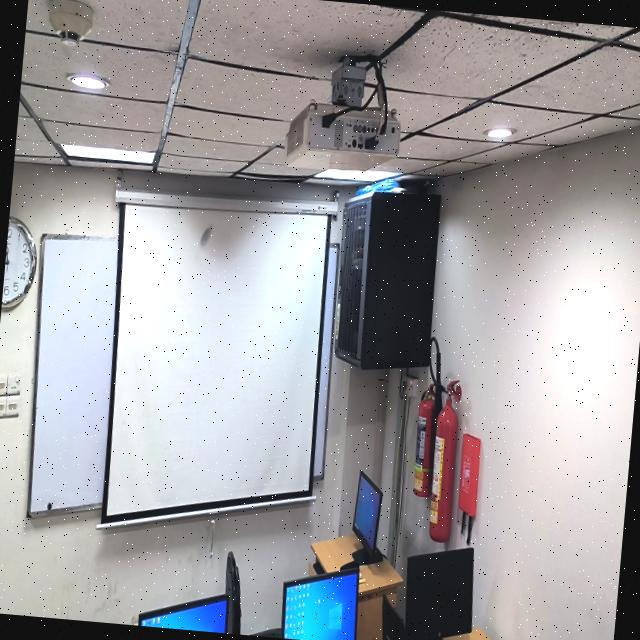Chair: (224, 550, 240, 634)
Fire Extinguisher: (428, 395, 456, 540), (412, 380, 435, 496)
Light: (60, 142, 153, 163), (313, 168, 399, 181), (66, 71, 107, 90), (484, 125, 511, 140)
Monitor: (403, 546, 472, 640), (279, 570, 357, 640), (136, 592, 228, 633), (351, 469, 381, 562)
Projector: (283, 102, 399, 169)
